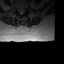CCS_normal: (20, 8, 22, 15)
LFS_normal: (24, 6, 26, 12)
LLS_normal: (22, 8, 24, 14)
RFS_normal: (16, 7, 18, 13)
RLS_normal: (18, 8, 20, 14)
